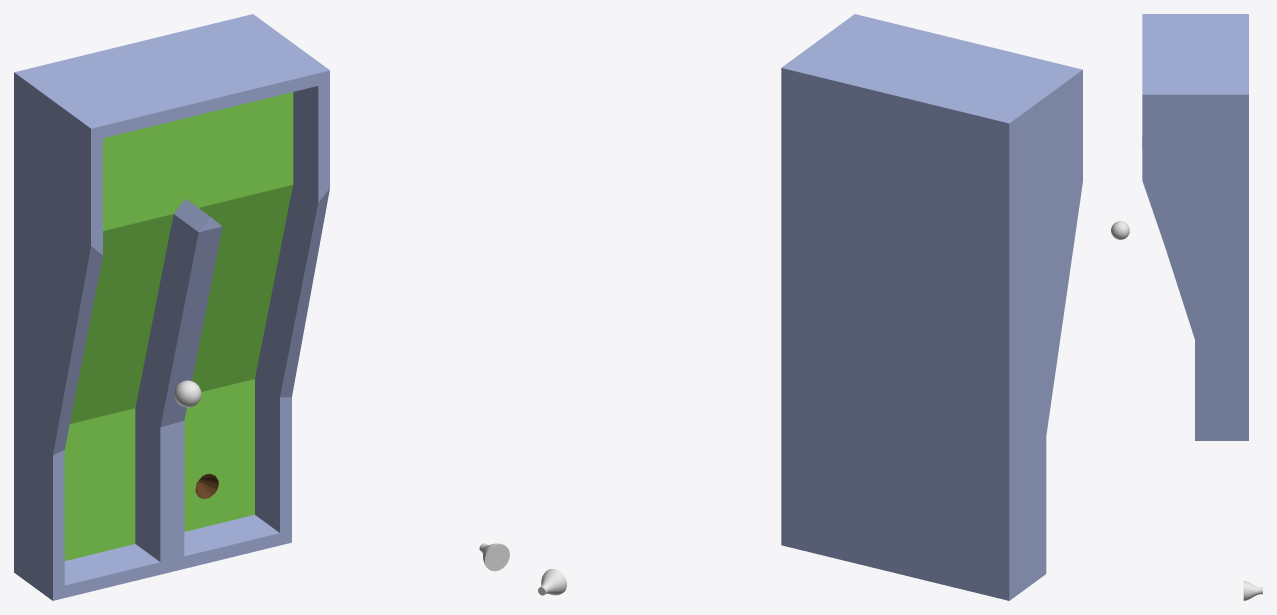
File: minigolf_course_test.gltf
3 renders of one model, left to right at view 1: azimuth 30°, elevation 25°; view 2: azimuth 150°, elevation 25°; view 3: azimuth 270°, elevation 25°, orthographic. The views are drawn at different scales.
Parts seen in each view (by area): view 1: Course, Hole; view 2: Course; view 3: Course, golf ball, Hole.
Boxes of the visible parts, bbox=[...] form: Course: bbox=[14, 14, 329, 600]; Hole: bbox=[479, 543, 509, 571]; Course: bbox=[781, 14, 1082, 600]; Course: bbox=[1142, 14, 1248, 440]; golf ball: bbox=[1111, 221, 1129, 239]; Hole: bbox=[1243, 581, 1262, 600].
Bounding box in the file's own units: 41.19 × 49.01 × 15.92.
